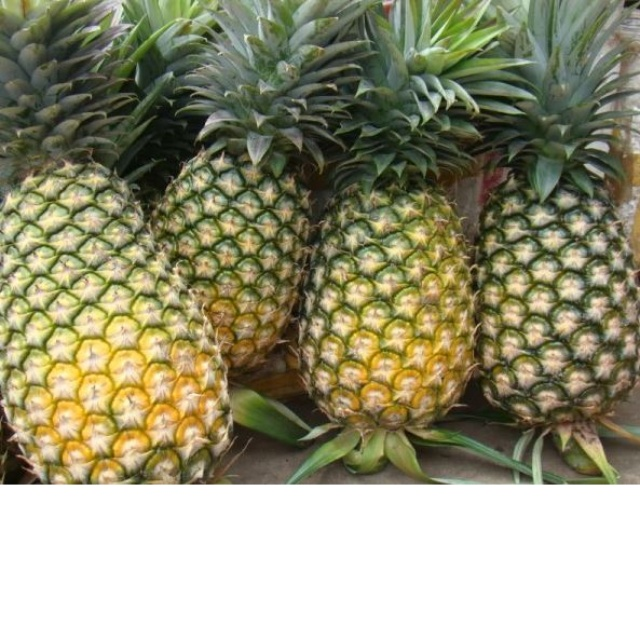thom: (5, 112, 236, 479), (297, 134, 482, 434), (473, 138, 640, 434), (148, 97, 314, 386)
